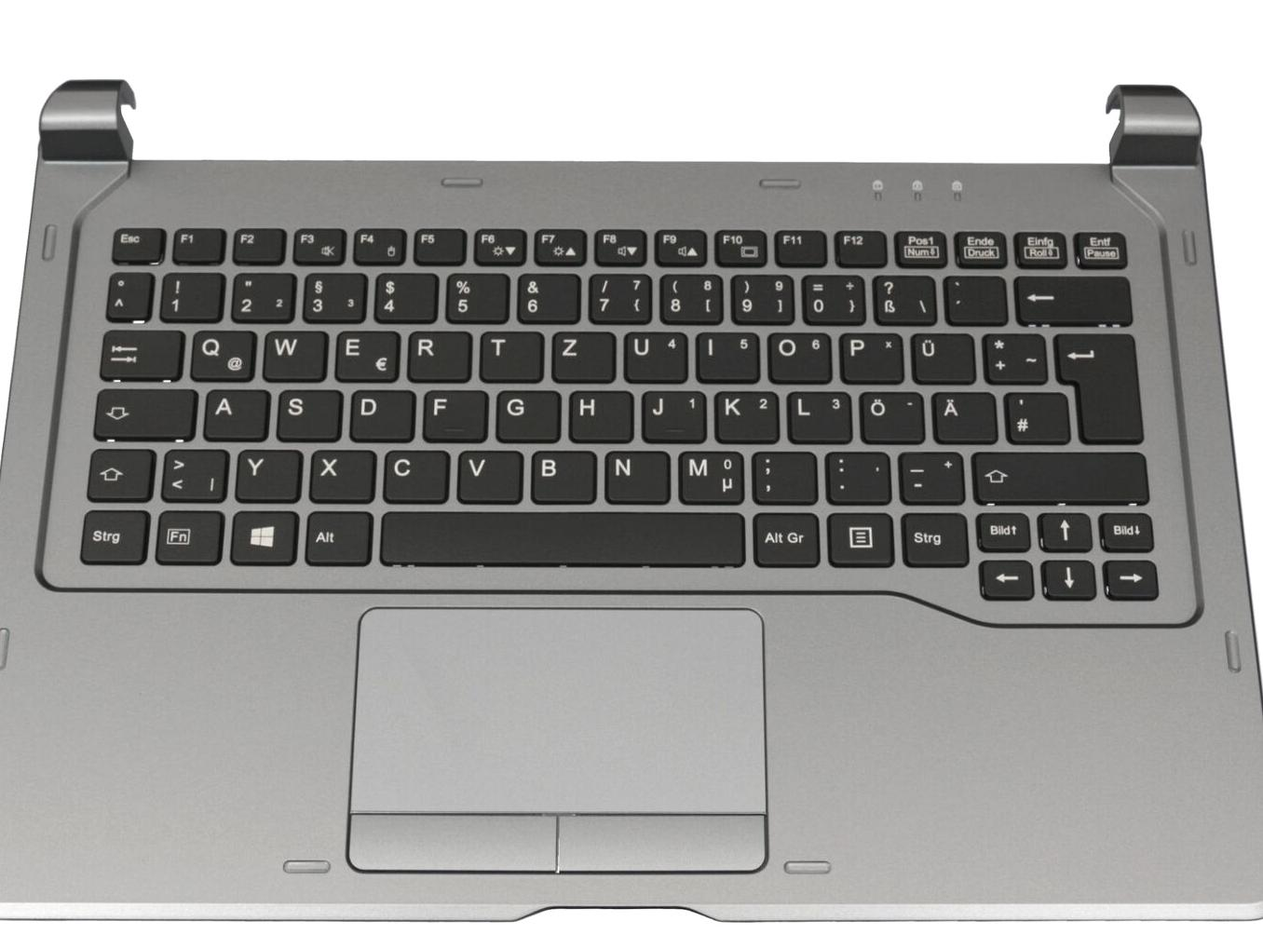0: (799, 271, 865, 323)
1: (157, 269, 223, 320)
2: (229, 269, 295, 320)
3: (300, 269, 366, 321)
4: (373, 270, 436, 321)
5: (442, 270, 508, 321)
6: (515, 270, 579, 321)
7: (587, 270, 651, 322)
8: (658, 270, 722, 322)
9: (728, 270, 794, 322)
a: (201, 386, 267, 439)
accent: (942, 272, 1006, 323)
ae: (930, 388, 998, 442)
alt-left: (301, 508, 370, 564)
altgr-right: (750, 508, 818, 564)
b: (528, 447, 596, 502)
c: (381, 447, 449, 502)
caret: (104, 269, 151, 318)
comma: (750, 448, 816, 503)
d: (346, 386, 413, 440)
del: (1012, 272, 1131, 322)
e: (333, 327, 399, 380)
enter: (1052, 330, 1141, 441)
f: (420, 386, 486, 440)
g: (493, 386, 559, 440)
h: (566, 386, 632, 441)
hash: (1002, 388, 1068, 442)
i: (694, 328, 760, 381)
j: (639, 386, 706, 441)
k: (713, 386, 780, 442)
keyboard: (38, 213, 1201, 624)
l: (785, 387, 851, 442)
less: (158, 444, 227, 500)
m: (676, 448, 744, 503)
minus: (896, 448, 963, 502)
n: (602, 447, 670, 503)
o: (765, 328, 831, 383)
oe: (857, 388, 924, 442)
p: (837, 329, 903, 383)
plus: (981, 330, 1046, 382)
point: (823, 448, 890, 503)
q: (187, 326, 254, 380)
r: (404, 328, 470, 381)
s: (274, 386, 340, 440)
shift-left: (84, 444, 153, 500)
shift-lock: (91, 384, 195, 439)
shift-right: (969, 447, 1147, 501)
space: (377, 508, 744, 563)
ss: (870, 272, 935, 323)
strg-left: (76, 506, 147, 562)
strg-right: (898, 508, 967, 564)
t: (476, 327, 542, 380)
tab: (98, 325, 182, 378)
u: (621, 328, 687, 382)
ue: (908, 330, 974, 383)
v: (455, 447, 522, 502)
w: (261, 327, 326, 380)
x: (307, 446, 374, 501)
y: (234, 446, 302, 502)
z: (550, 328, 615, 382)
